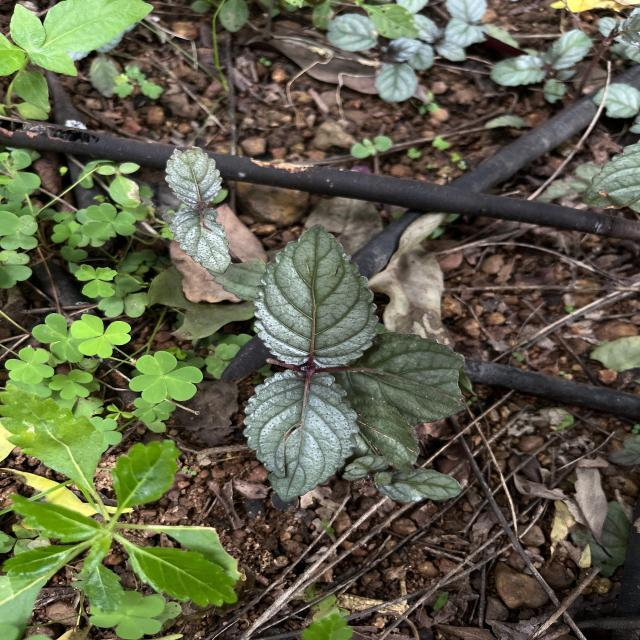Hemigraphis colorata: (250, 222, 381, 371), (240, 368, 363, 503), (333, 331, 468, 428), (158, 203, 234, 276), (162, 143, 225, 207)
